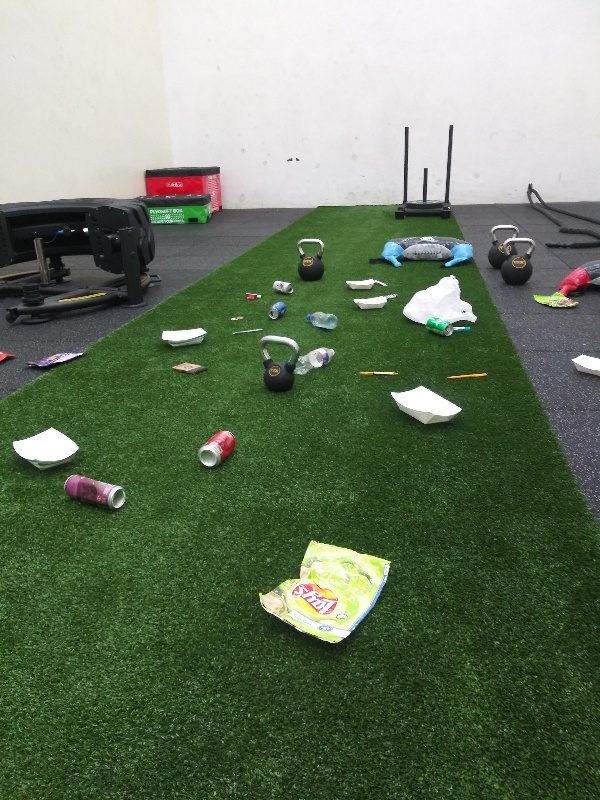bag: (252, 538, 396, 646), (22, 347, 90, 370), (530, 291, 587, 311), (1, 346, 18, 370)
bottle: (291, 346, 340, 380), (301, 308, 341, 336)
can: (61, 473, 129, 516), (196, 426, 238, 473), (424, 316, 455, 339), (266, 301, 289, 322), (270, 278, 293, 295)
plate: (10, 424, 86, 474), (386, 382, 464, 429), (158, 326, 211, 351), (565, 350, 600, 381), (349, 294, 391, 312), (342, 277, 379, 291)
